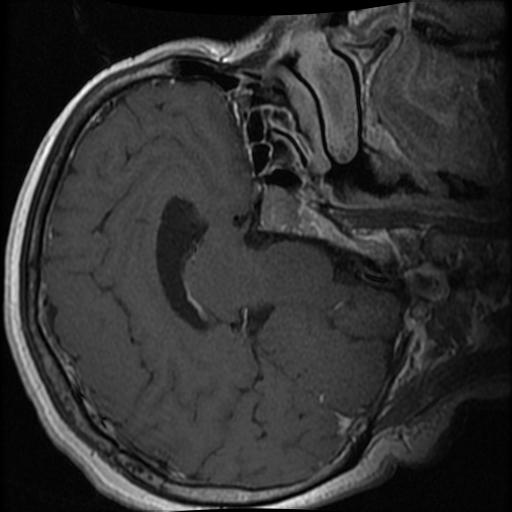pituitary tumour: (258, 186, 299, 236)
